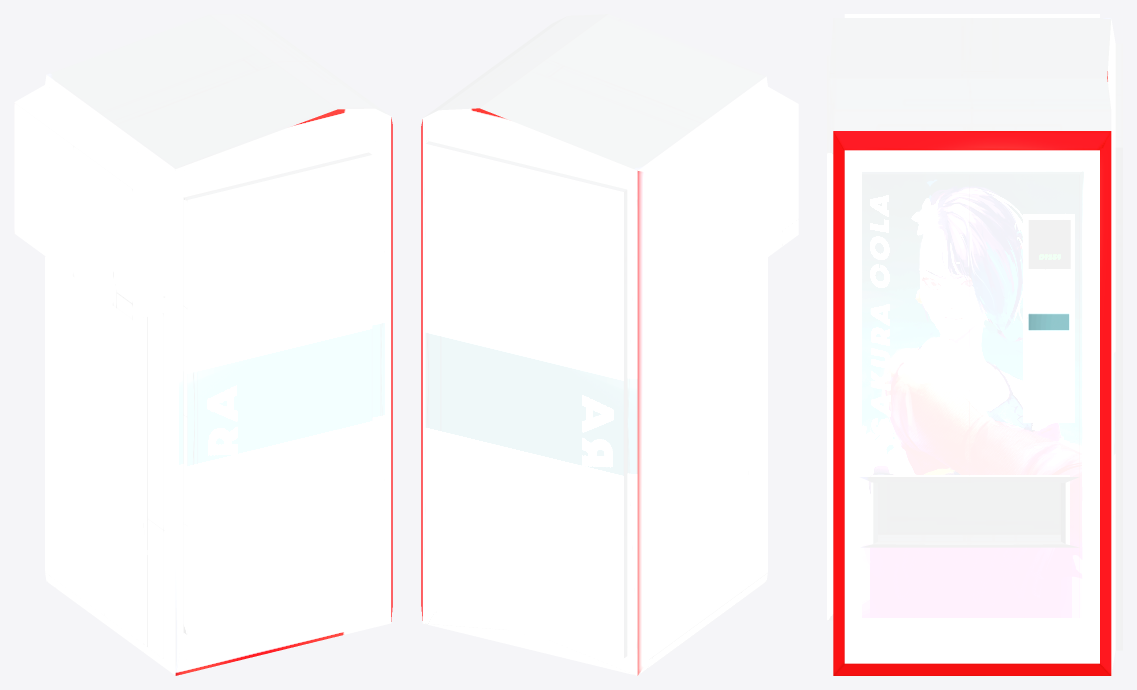
File: Vending Machine .glb
The picture shows the model from 3 angles, left to right: view 1: azimuth 30°, elevation 25°; view 2: azimuth 150°, elevation 25°; view 3: azimuth 270°, elevation 25°; orthographic projection. The views are drawn at different scales.
Visible parts, largest first — view 1: Vending Machine; view 2: Vending Machine; view 3: Vending Machine.
Part boxes in pixels (x1,y1,x2,y2): Vending Machine: [14, 14, 392, 675]; Vending Machine: [421, 14, 798, 675]; Vending Machine: [827, 14, 1122, 675].
Size of the model in its own units: 4.3 by 8.22 by 3.87.
1 material, 1 textured.
